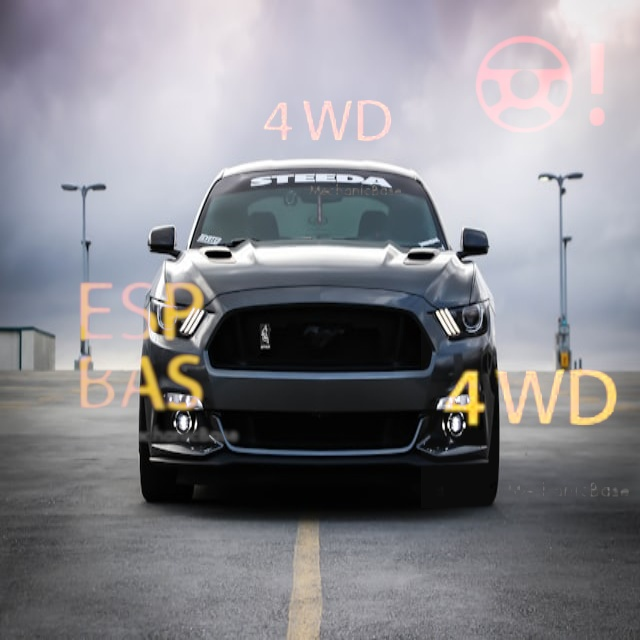symbol: (421, 291, 638, 508), (37, 243, 246, 452), (245, 41, 408, 204), (461, 6, 621, 166)
